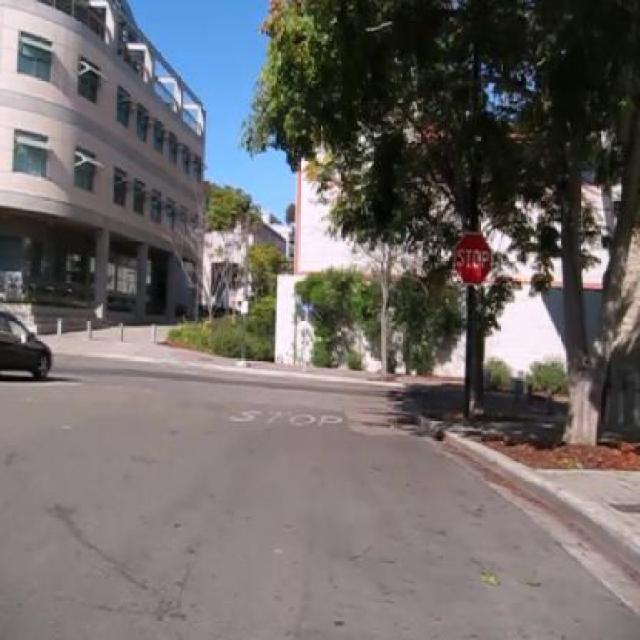stop: (452, 231, 492, 285)
